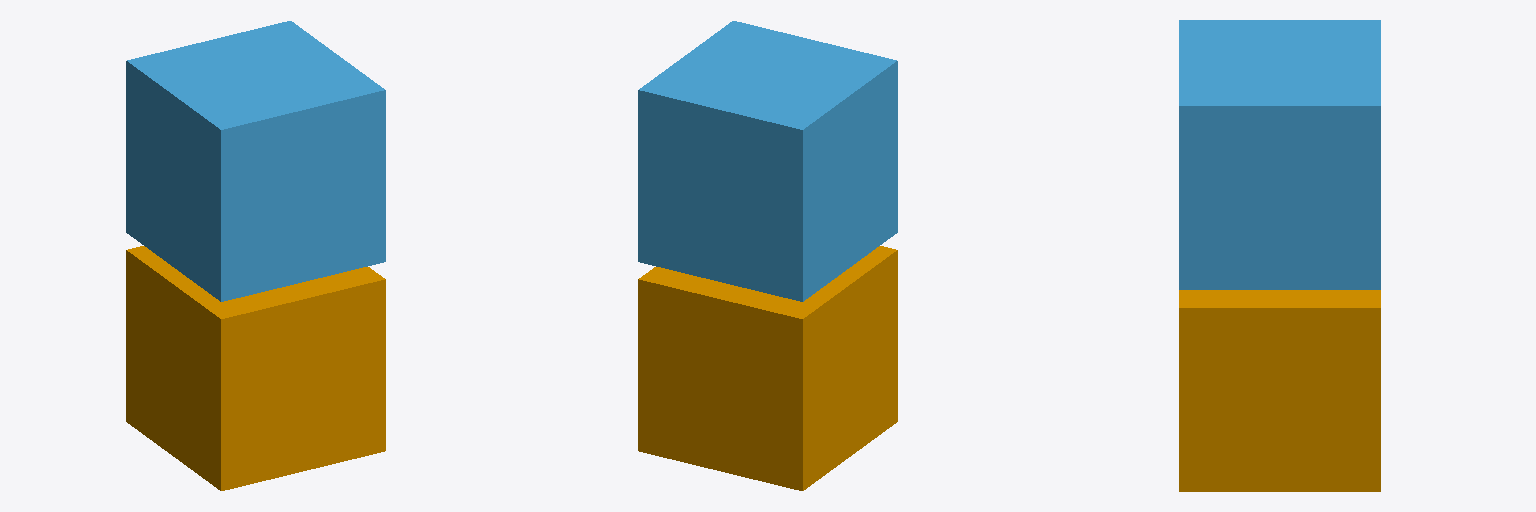
URDF robot description (urdfbot):
<?xml version="1.0"?>
<robot name="urdfbot">

    <link name="base_link">
        <visual>
            <geometry>
                <box size="0.1 0.1 0.1"/>
            </geometry>
        </visual>
    </link>

    <link name="head_link">
        <visual>
            <geometry>
                <box size="0.1 0.1 0.1"/>
            </geometry>
        </visual>
    </link>

    <joint name="base_link_to_head_link_joint" type="fixed">
        <origin rpy="0 0 0" xyz="0 0 0.11" />
        <parent link="base_link" />
        <child link="head_link" />
    </joint>

</robot>

--- What the picture shows (computed from the rendered views, not written in the file) ---
3 views of the same robot in one strip: view 1: azimuth 30°, elevation 25°; view 2: azimuth 150°, elevation 25°; view 3: azimuth 270°, elevation 25° (orthographic).
Robot: urdfbot — 2 links, 1 joints (1 fixed); root link base_link; default pose: all joints at 0.
Visible links, largest first — view 1: head_link, base_link; view 2: head_link, base_link; view 3: head_link, base_link.
Boxes of the visible links, x1,y1,x2,y2 form: head_link: (126, 21, 385, 301); base_link: (126, 246, 385, 490); head_link: (638, 21, 897, 301); base_link: (638, 246, 897, 490); head_link: (1179, 20, 1380, 289); base_link: (1179, 290, 1380, 491).
Bounding box of the posed robot: 0.1 × 0.1 × 0.21 m (x, y, z).
Geometry: primitives only (box / cylinder / sphere), no mesh files.
